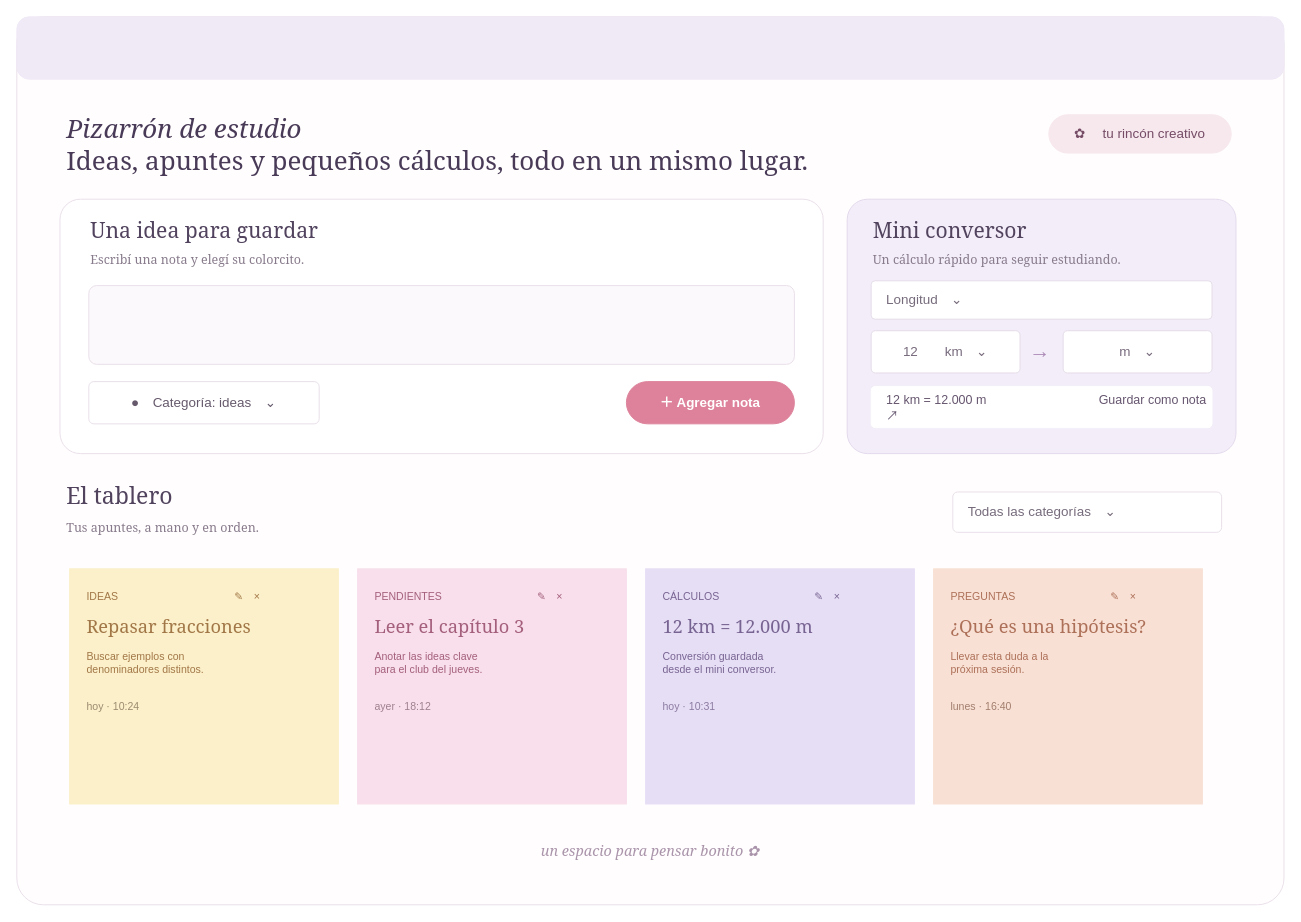
Image size: 1301x922. Some labels were removed from this diagram. Each missing label, with the box of its shape:
¿Qué querés recordar?: (88, 285, 794, 364)
● ● ● mi espacio de estudio · club de estudio: (16, 16, 1284, 79)
